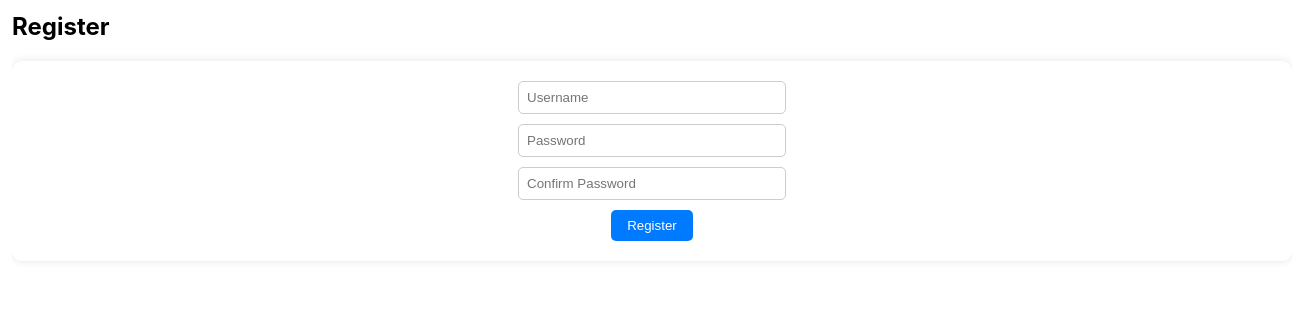
Register Component › displays error if passwords do not match
Type "testuser" into the field with placeholder "Username". click: (652, 97)
box: [518,81,786,114]
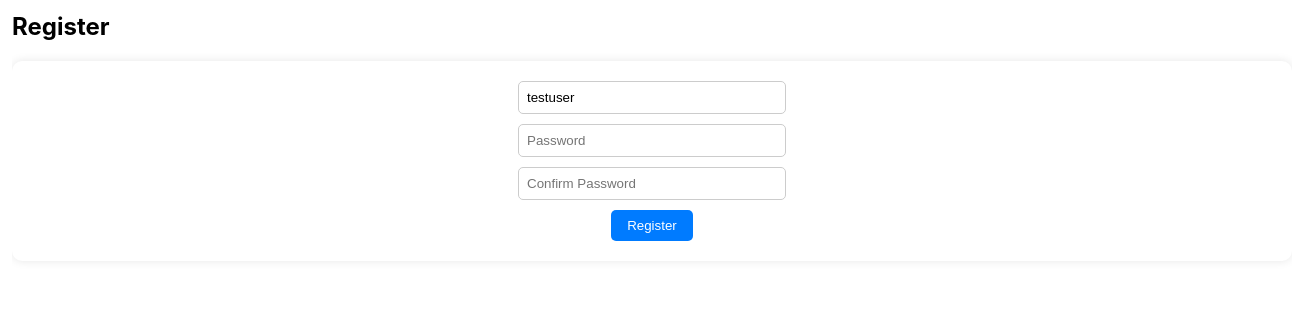
Type "password" into the password field with placeholder "Password". click: (652, 140)
box: [518,124,786,157]
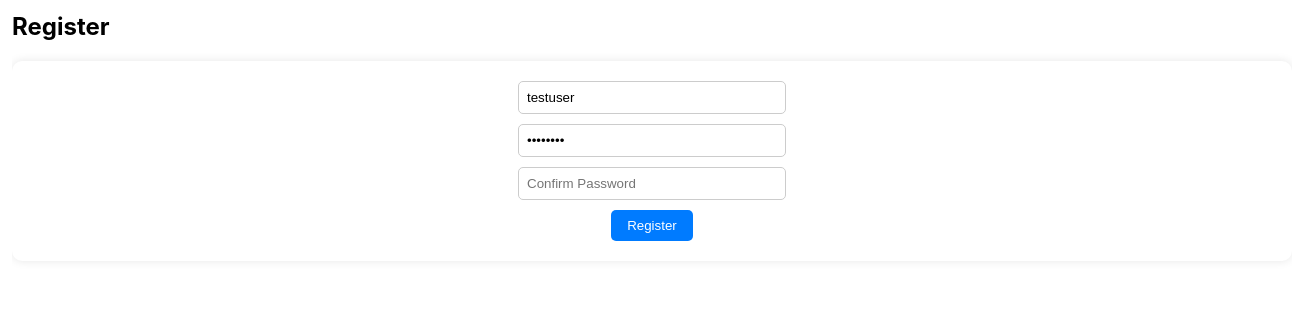
Type "differentpassword" into the password field with placeholder "Confirm Password". click: (652, 183)
box: [518,167,786,200]
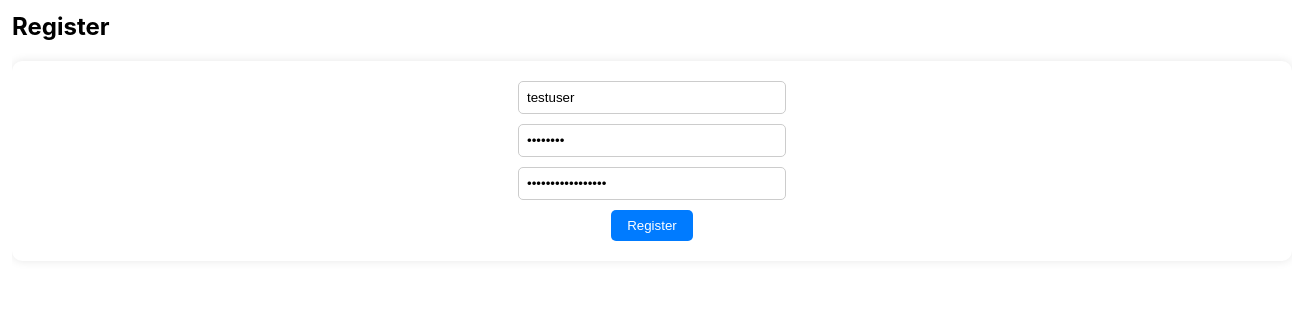
Click the button with test id "button-register". click: click(652, 225)
box: [611,210,693,241]
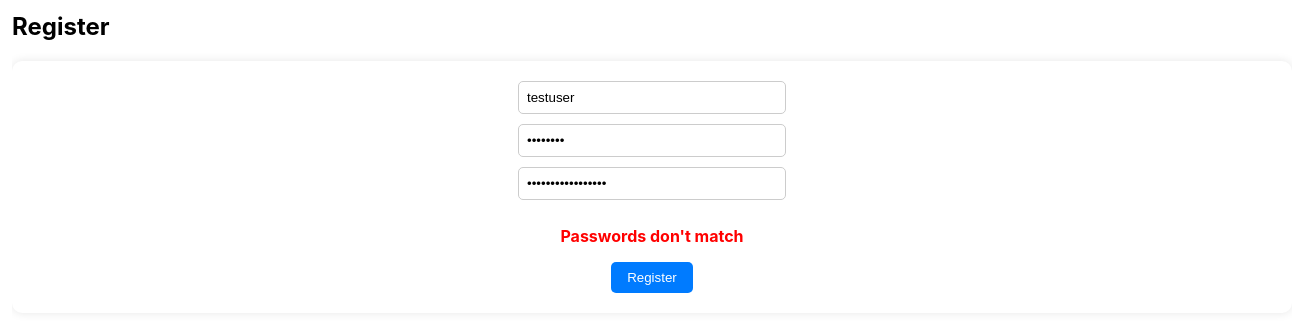
expect the text "Passwords don't match" is shown: met, box [560,226,744,246]
